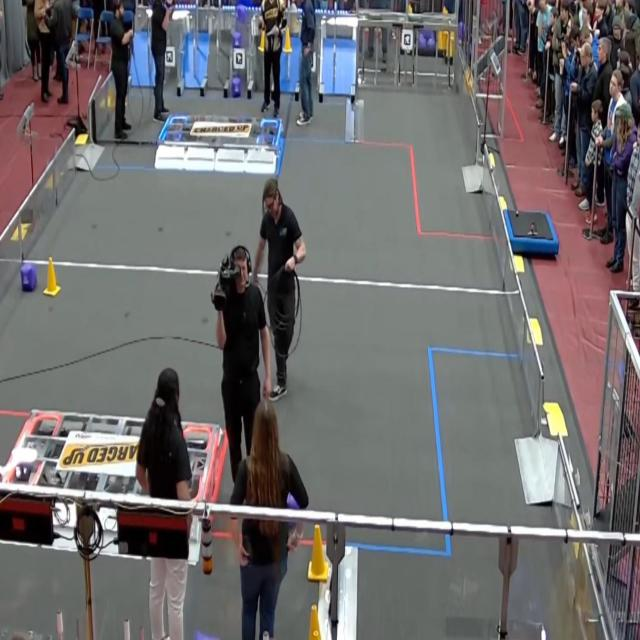frc_cone: (306, 525, 330, 581), (302, 604, 328, 640), (43, 258, 61, 298), (255, 28, 266, 54), (284, 24, 293, 54), (235, 3, 248, 22), (304, 630, 324, 640), (444, 31, 451, 58), (438, 30, 443, 49)
frc_cube: (20, 263, 37, 291), (424, 30, 437, 48), (230, 79, 242, 98), (230, 31, 242, 50), (418, 30, 427, 48)
